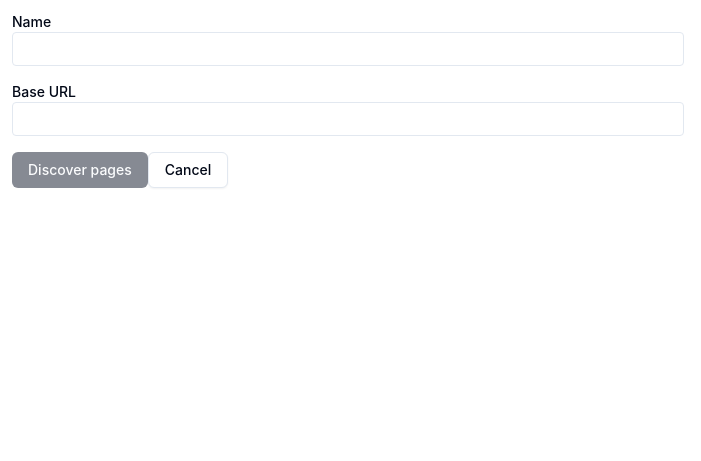
it: SiteWizard › successful discover renders the candidate list with score >= 0.7 pre-checked
Type "X" into the field labelled "Name" at (348,49), box 12,32 -> 684,66
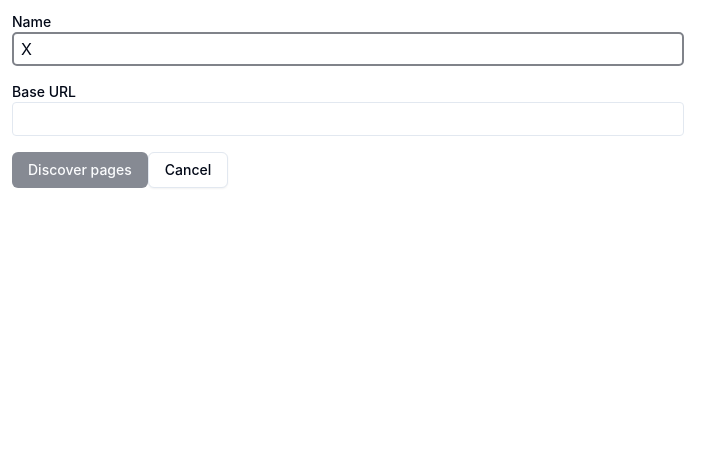
Type "https://x" into the field labelled "Base URL" at (348,119), box 12,102 -> 684,136
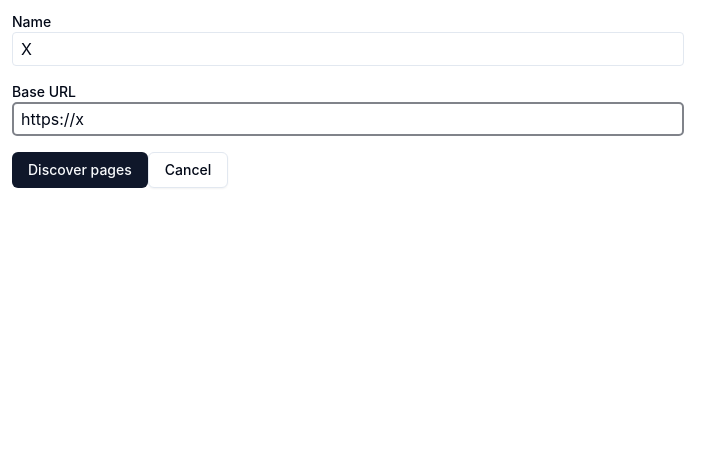
Click the button "Discover pages" at (80,170), box 12,152 -> 148,188
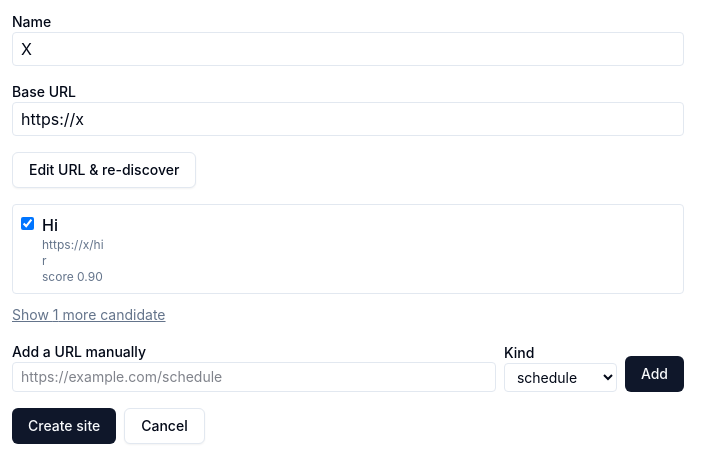
Result: the text "Hi" is shown at 42,215 -> 58,235
Result: the checkbox labelled "Hi https://x/hi r score 0.90" is checked at 21,217 -> 34,230
